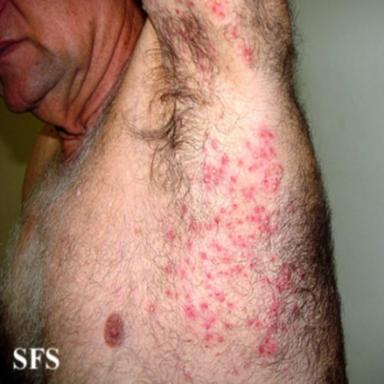Impetigo: (161, 128, 306, 360), (148, 0, 217, 74), (210, 0, 230, 19), (241, 47, 255, 70), (224, 25, 239, 40), (149, 304, 156, 313)
